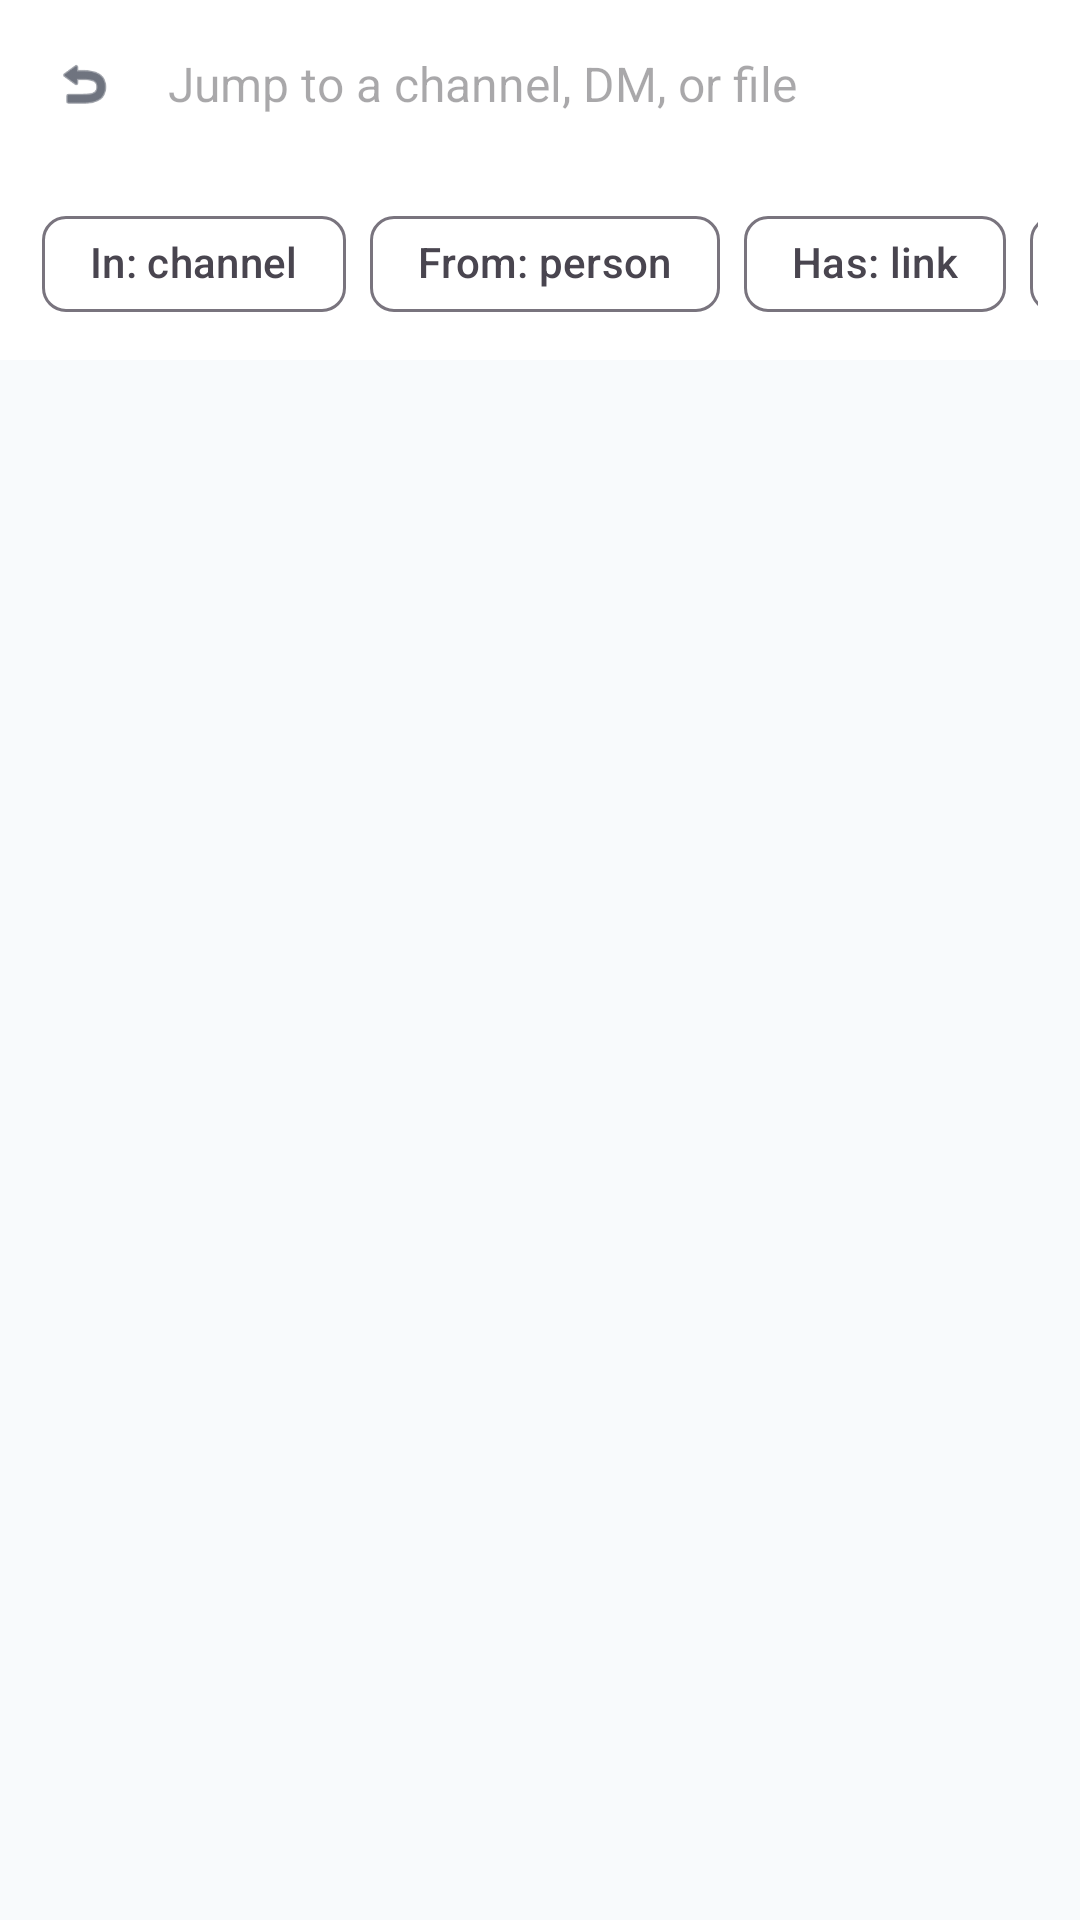

Where to tap for icons on this 1080*1920 app screen, as [x,y]:
revert: [85,84]
